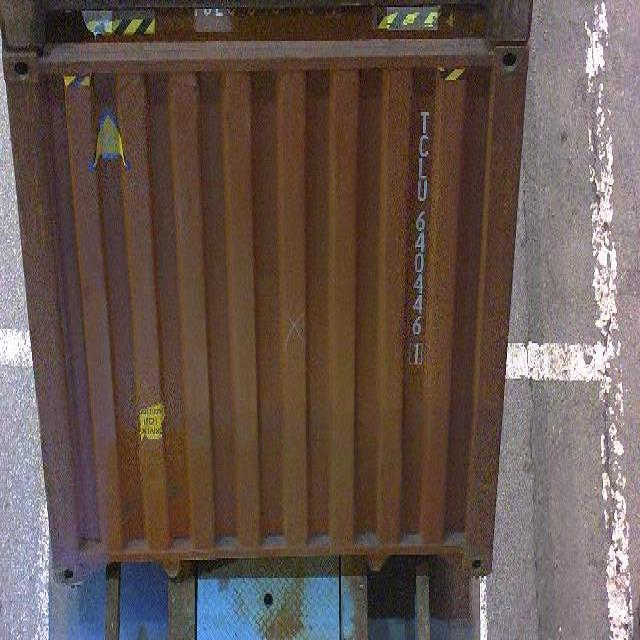container_number: (407, 96, 434, 370)
